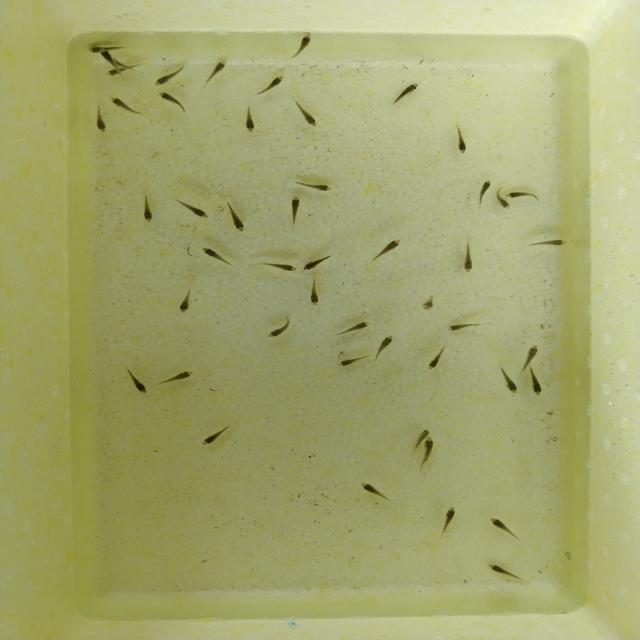fingerling: (288, 29, 314, 62), (493, 364, 519, 396), (176, 202, 215, 222), (165, 365, 202, 386), (392, 80, 422, 104), (199, 243, 230, 266), (294, 106, 323, 130), (172, 292, 198, 318), (376, 236, 405, 258), (422, 348, 448, 372), (228, 203, 246, 237), (484, 562, 517, 580), (483, 512, 512, 532), (128, 372, 152, 396), (527, 372, 545, 404), (199, 427, 225, 449), (374, 330, 396, 355), (526, 236, 568, 249), (139, 195, 157, 225), (262, 323, 295, 339), (358, 479, 382, 501), (153, 90, 184, 106), (153, 69, 180, 87), (204, 59, 227, 80), (339, 320, 375, 333), (107, 95, 132, 113), (305, 281, 322, 307), (332, 356, 368, 368), (454, 130, 469, 158), (460, 248, 476, 274), (94, 113, 112, 136), (295, 182, 336, 192), (442, 504, 457, 530), (421, 435, 440, 455), (265, 75, 286, 93), (242, 111, 258, 134), (524, 341, 540, 364), (303, 257, 329, 271), (288, 194, 302, 217), (418, 421, 432, 444), (496, 197, 515, 213), (261, 264, 299, 272), (100, 48, 114, 69), (479, 177, 491, 200), (445, 324, 479, 332), (508, 190, 534, 200), (422, 299, 438, 311), (104, 70, 120, 77), (88, 46, 103, 52)
